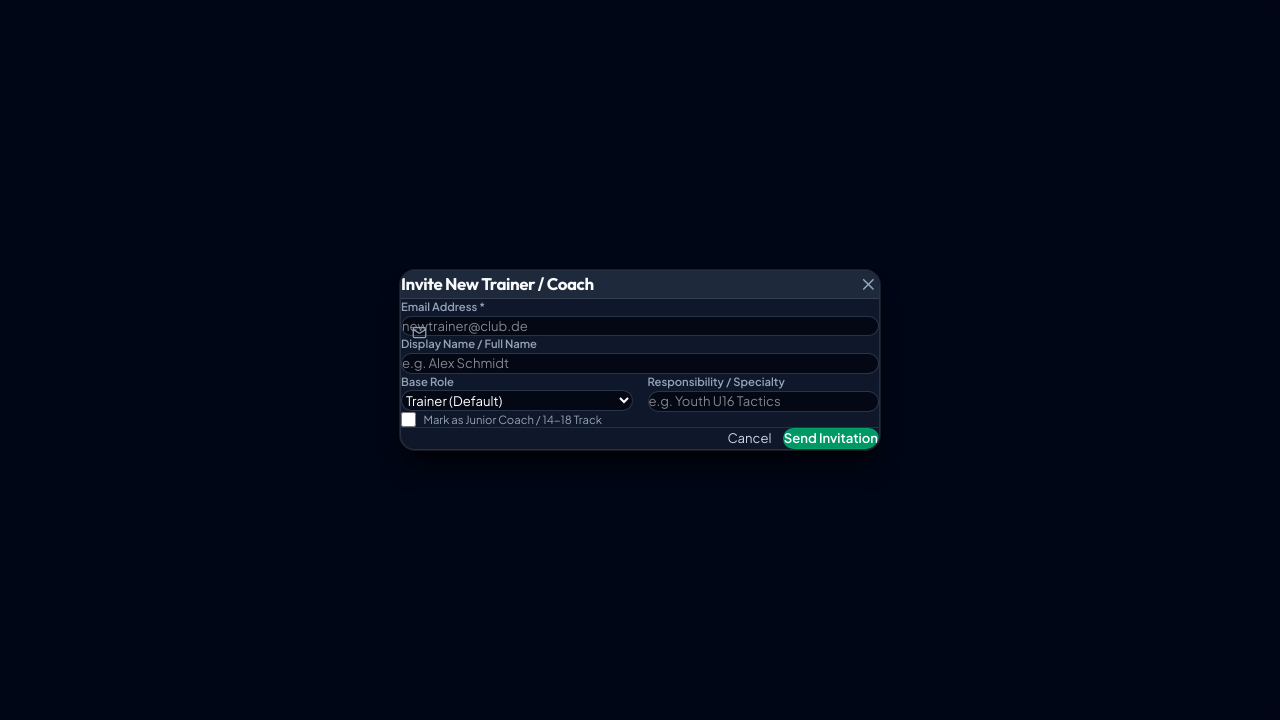
Scenario: InviteModal › disables the submit button while loading
In the field with placeholder "newtrainer@club.de": (640, 326) [401,316,879,336], type "test@club.de"
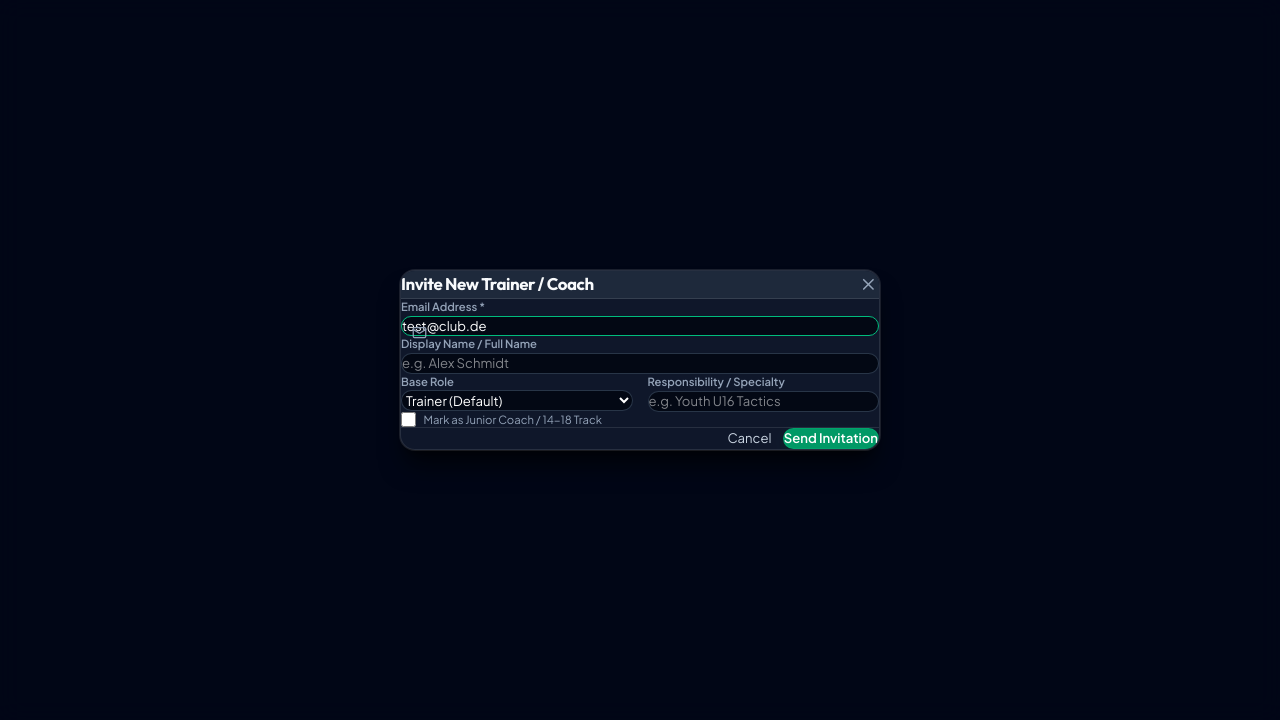
Click the button "Send Invitation": (831, 438) [783,428,879,449]
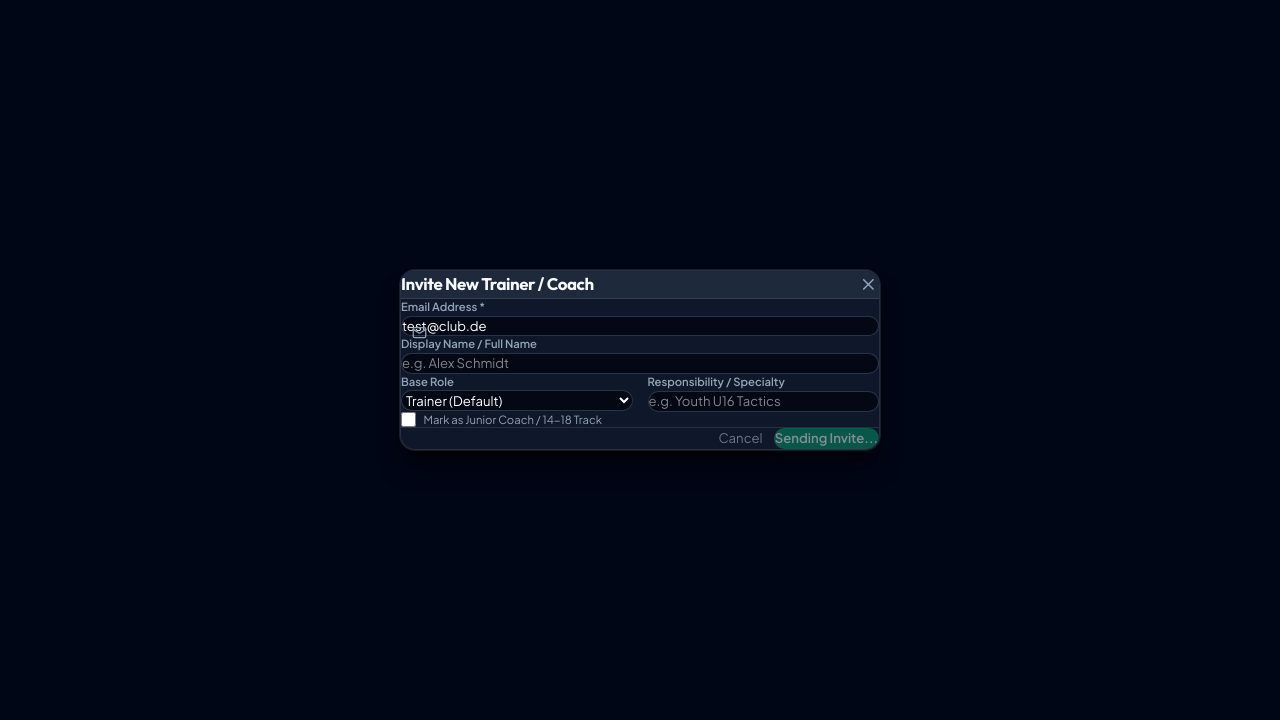
Expected: the text "Sending Invite..." is shown, [775,429,878,448]
